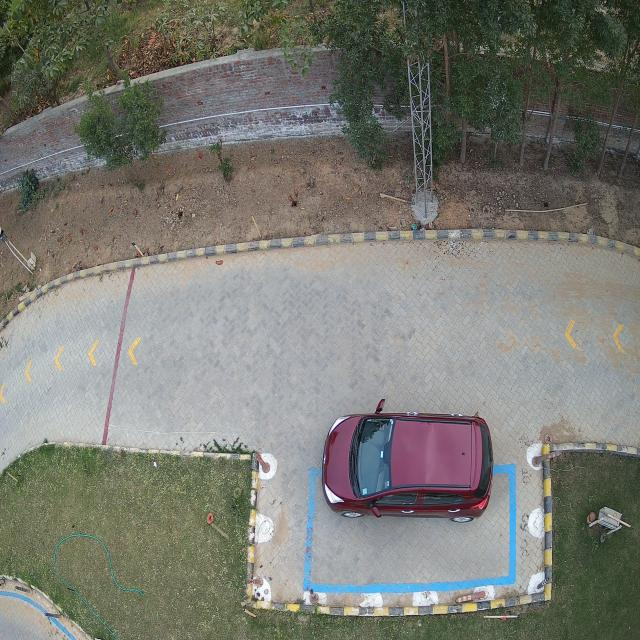car: (322, 410, 494, 522)
